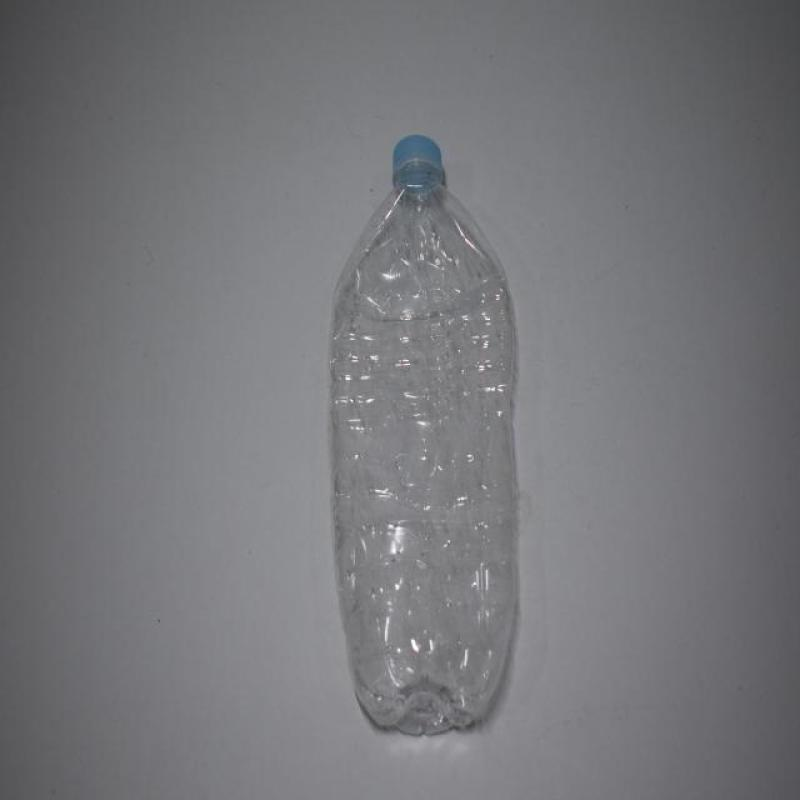botella: (326, 134, 522, 734)
